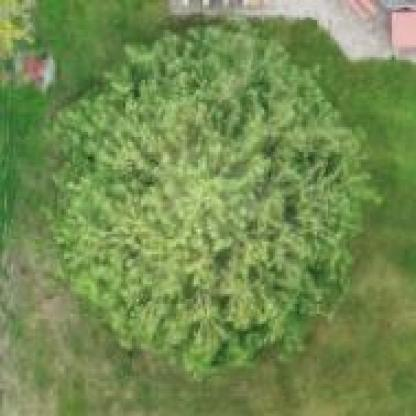Coniferous Tree: (57, 30, 370, 374)
